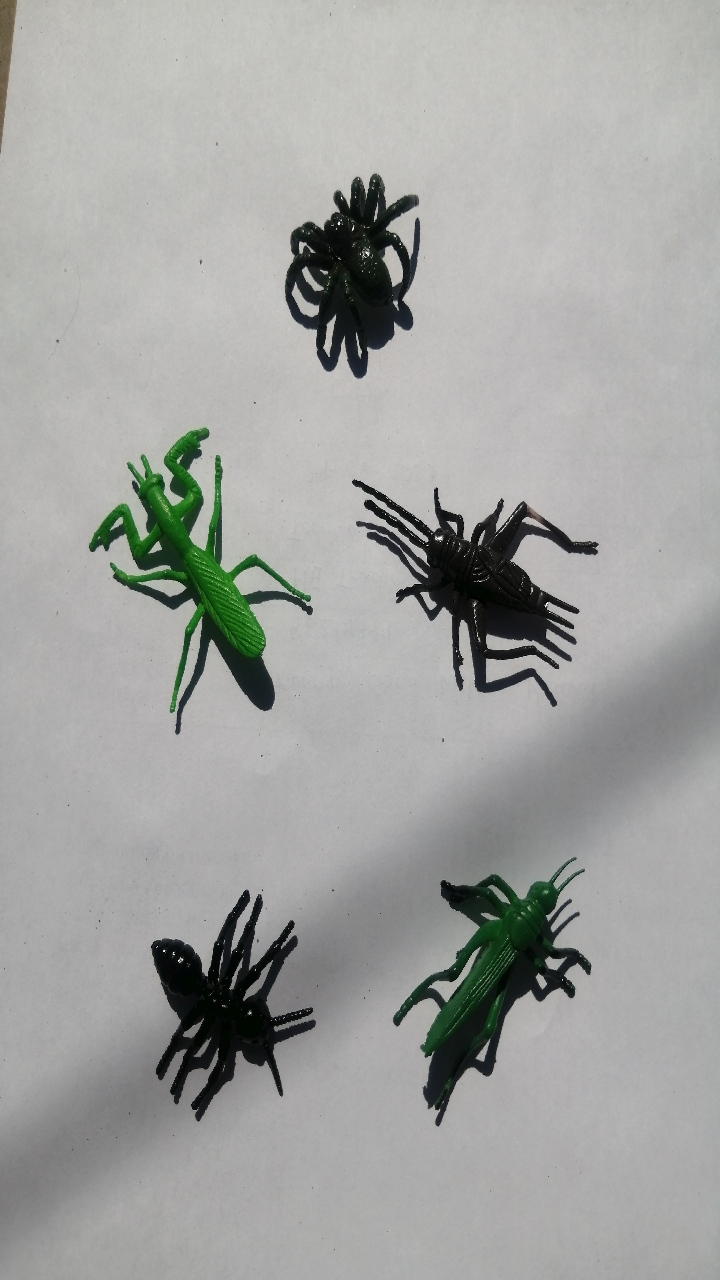intruso: (363, 822, 644, 1163), (61, 385, 318, 722), (331, 442, 603, 731), (89, 851, 346, 1143), (248, 145, 468, 408)
